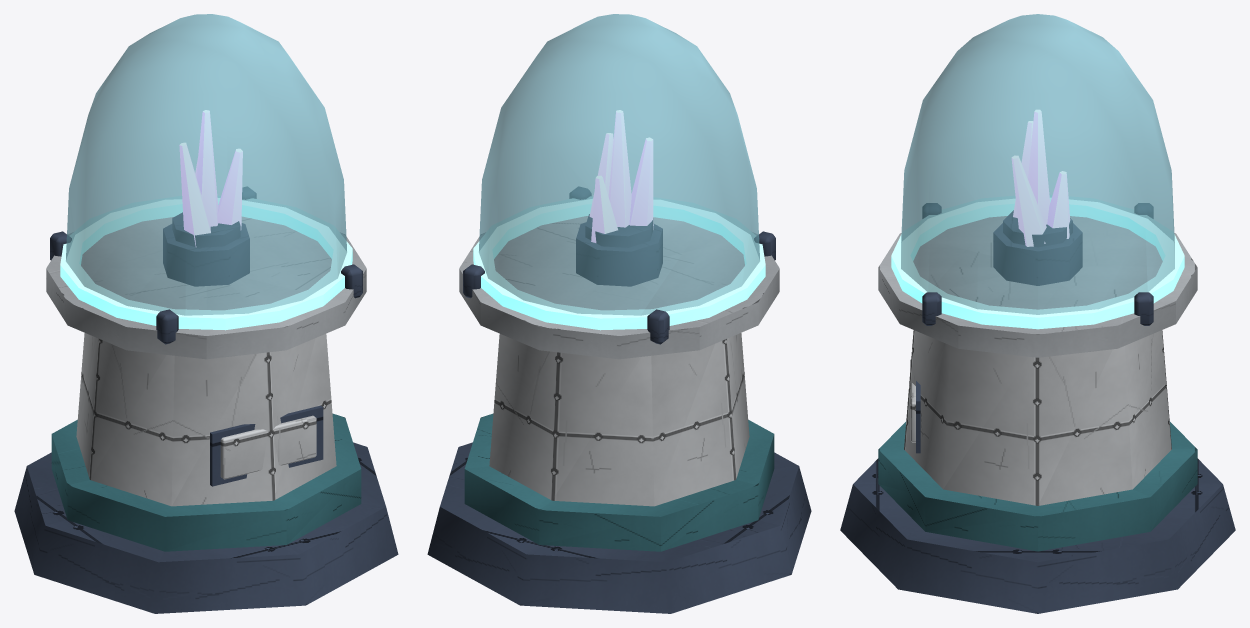
3 views of the same model, side by side, from view 1: azimuth 30°, elevation 25°; view 2: azimuth 150°, elevation 25°; view 3: azimuth 270°, elevation 25° (orthographic).
Parts seen in each view (by area): view 1: DL013_DiscoveryDisplay_glass_cyan, DL013_DiscoveryDisplay_graphite_navy, DL013_DiscoveryDisplay_hull_offwhite, DL013_DiscoveryDisplay_titanium, DL013_DiscoveryDisplay_teal_shell, DL013_DiscoveryDisplay_emissive_cyan, DL013_DiscoveryDisplay_emissive_violet; view 2: DL013_DiscoveryDisplay_glass_cyan, DL013_DiscoveryDisplay_hull_offwhite, DL013_DiscoveryDisplay_graphite_navy, DL013_DiscoveryDisplay_titanium, DL013_DiscoveryDisplay_teal_shell, DL013_DiscoveryDisplay_emissive_cyan, DL013_DiscoveryDisplay_emissive_violet; view 3: DL013_DiscoveryDisplay_glass_cyan, DL013_DiscoveryDisplay_hull_offwhite, DL013_DiscoveryDisplay_graphite_navy, DL013_DiscoveryDisplay_titanium, DL013_DiscoveryDisplay_teal_shell, DL013_DiscoveryDisplay_emissive_cyan, DL013_DiscoveryDisplay_emissive_violet.
Boxes of the visible parts, <box> form: DL013_DiscoveryDisplay_glass_cyan: <box>66,14,346,315</box>; DL013_DiscoveryDisplay_graphite_navy: <box>14,187,398,613</box>; DL013_DiscoveryDisplay_hull_offwhite: <box>76,333,336,506</box>; DL013_DiscoveryDisplay_titanium: <box>46,216,366,359</box>; DL013_DiscoveryDisplay_teal_shell: <box>51,413,361,551</box>; DL013_DiscoveryDisplay_emissive_cyan: <box>60,196,352,330</box>; DL013_DiscoveryDisplay_emissive_violet: <box>179,110,242,246</box>; DL013_DiscoveryDisplay_glass_cyan: <box>479,14,759,315</box>; DL013_DiscoveryDisplay_hull_offwhite: <box>489,333,749,506</box>; DL013_DiscoveryDisplay_graphite_navy: <box>427,187,811,613</box>; DL013_DiscoveryDisplay_titanium: <box>459,216,779,359</box>; DL013_DiscoveryDisplay_teal_shell: <box>464,413,774,551</box>; DL013_DiscoveryDisplay_emissive_cyan: <box>473,196,765,330</box>; DL013_DiscoveryDisplay_emissive_violet: <box>589,110,653,242</box>; DL013_DiscoveryDisplay_glass_cyan: <box>901,14,1174,314</box>; DL013_DiscoveryDisplay_hull_offwhite: <box>904,330,1171,505</box>; DL013_DiscoveryDisplay_graphite_navy: <box>840,203,1235,613</box>; DL013_DiscoveryDisplay_titanium: <box>878,216,1197,357</box>; DL013_DiscoveryDisplay_teal_shell: <box>878,421,1197,551</box>; DL013_DiscoveryDisplay_emissive_cyan: <box>891,195,1184,329</box>; DL013_DiscoveryDisplay_emissive_violet: <box>1011,109,1070,246</box>.
Bounding box in the file's own units: 1.24 × 1.73 × 1.24.
Materials: 7 (4 with a texture image).
